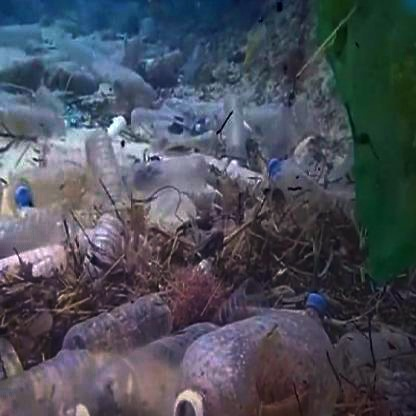pbottle: (196, 307, 337, 416), (64, 296, 176, 361), (266, 152, 340, 224), (86, 120, 134, 219), (1, 204, 88, 249), (7, 172, 70, 212), (5, 98, 58, 136), (229, 100, 249, 171)
